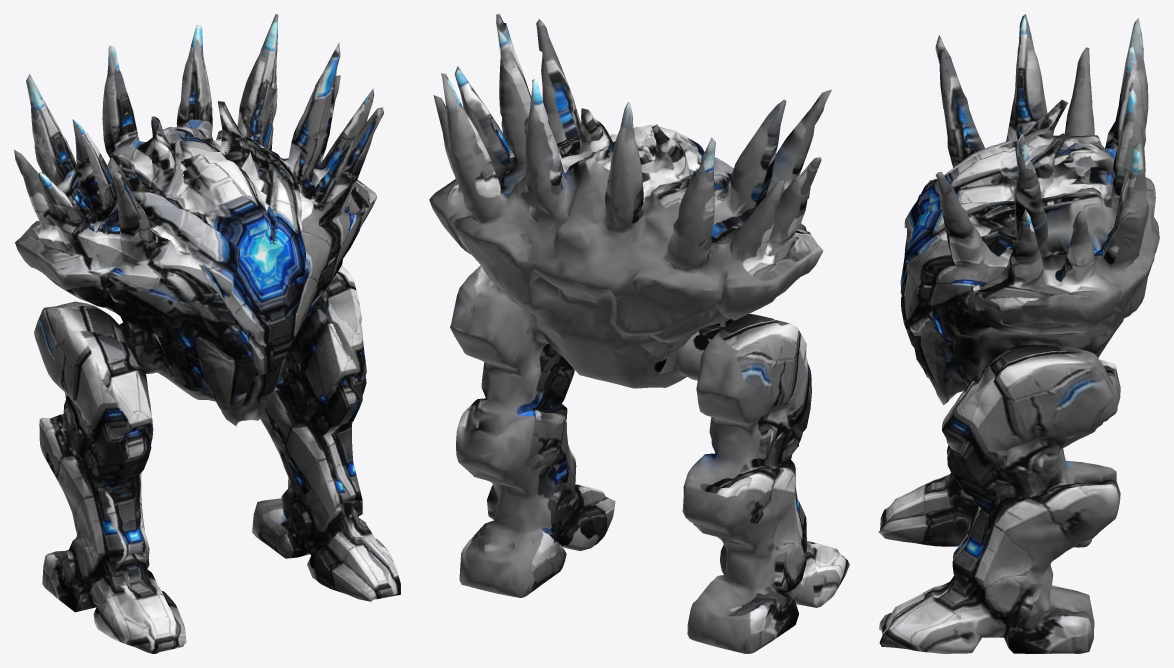
The model's file is arc_lod0.glb.
3 views of the same model, side by side, from view 1: azimuth 30°, elevation 25°; view 2: azimuth 150°, elevation 25°; view 3: azimuth 270°, elevation 25° (orthographic). The views are drawn at different scales.
Visible parts, largest first — view 1: geometry_0; view 2: geometry_0; view 3: geometry_0.
Boxes of the visible parts, <box> form: geometry_0: <box>14,14,400,653</box>; geometry_0: <box>429,14,849,653</box>; geometry_0: <box>878,14,1159,653</box>.
Size of the model in its own units: 1.4 by 2 by 0.9869.
Materials: 1 (1 with a texture image).
